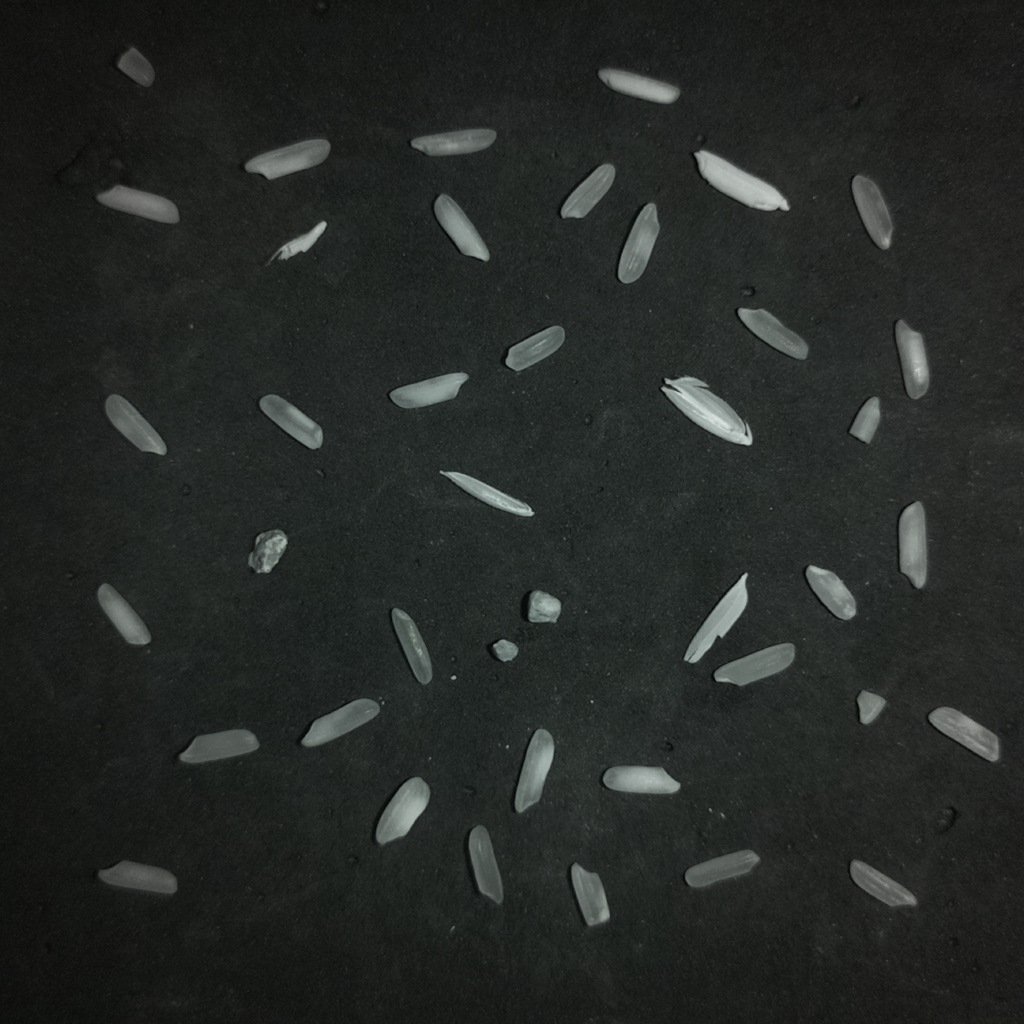broken: (570, 863, 609, 925), (115, 47, 154, 87), (856, 690, 886, 724)
chalky: (928, 707, 999, 761), (104, 394, 166, 454), (375, 777, 430, 844), (433, 194, 488, 260), (244, 138, 330, 179), (259, 394, 322, 449), (97, 583, 150, 645), (514, 729, 553, 812), (96, 185, 179, 223), (598, 68, 679, 103), (389, 372, 467, 408), (805, 565, 856, 620), (894, 319, 929, 398), (97, 860, 177, 894), (898, 501, 928, 589), (410, 128, 496, 155), (602, 765, 679, 794), (849, 397, 880, 444)
foreign: (661, 377, 751, 445), (685, 573, 748, 663), (694, 150, 787, 210), (266, 221, 326, 264), (248, 529, 287, 573), (527, 590, 561, 622), (490, 638, 517, 662)
whole: (440, 471, 533, 516), (301, 698, 379, 747), (737, 308, 808, 359), (714, 643, 795, 686), (617, 203, 659, 283), (849, 860, 917, 906), (391, 608, 431, 684), (851, 175, 892, 249), (561, 164, 615, 218), (684, 850, 759, 887), (505, 325, 564, 371), (179, 729, 258, 763), (468, 825, 502, 904)
